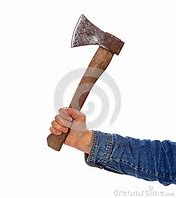axe: (45, 13, 126, 153)
